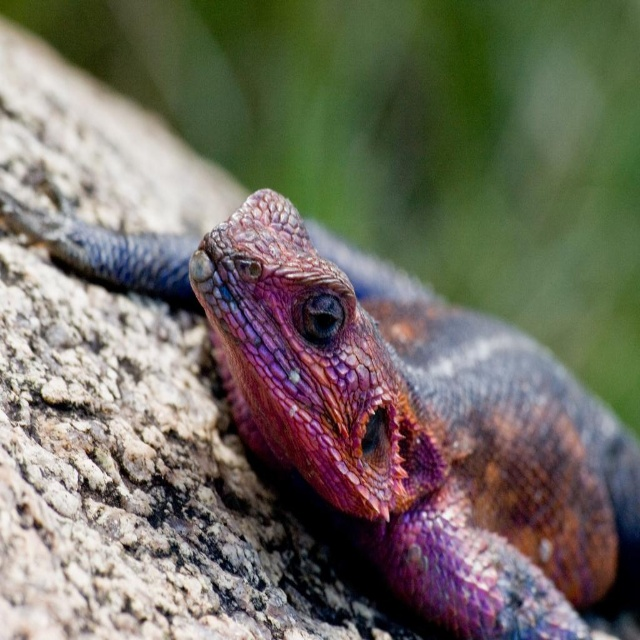Lizard: (48, 193, 636, 638)
